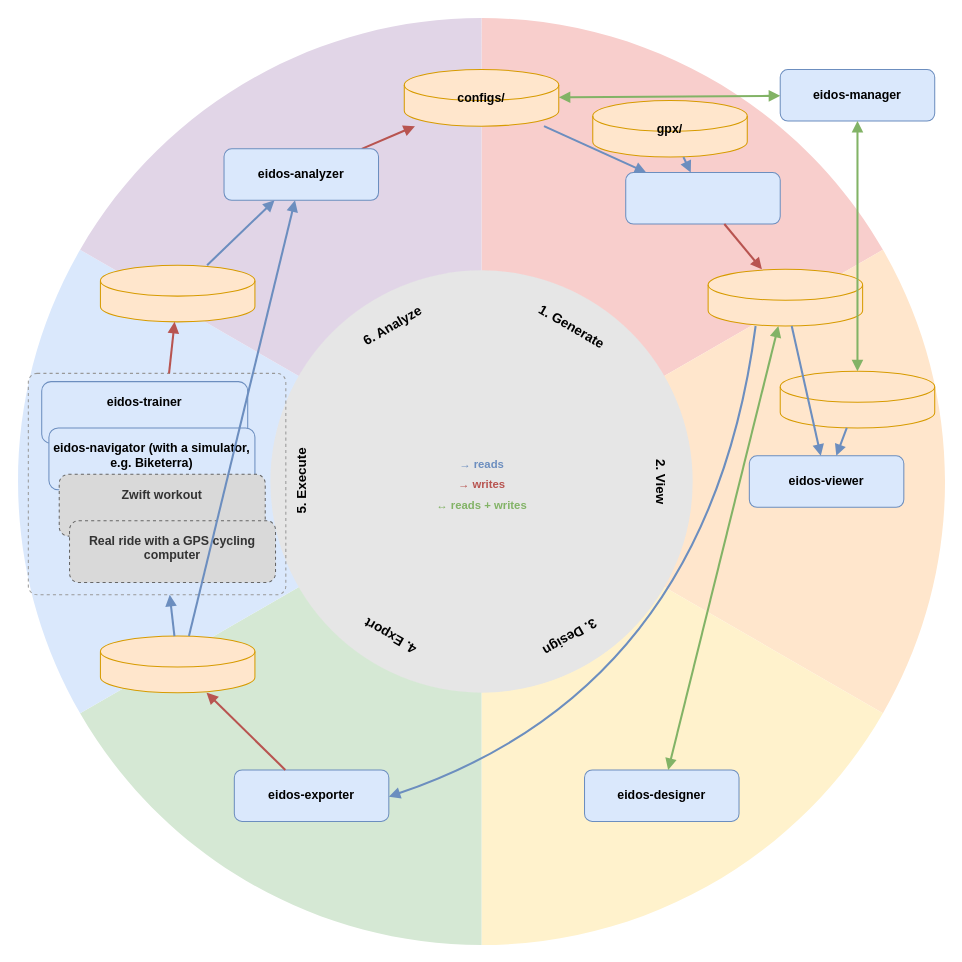
Image size: 962x962. Some labels were removed from this diagram. The shapes that lost their labels are listed below. From the top down, each one's centre as x and y in pixels, then its label:
At pixel 702 197: "eidos-generator".
At pixel 177 293: "activities/".
At pixel 785 297: "strategies/".
At pixel 857 399: "filters/".
At pixel 177 664: "exports/".
